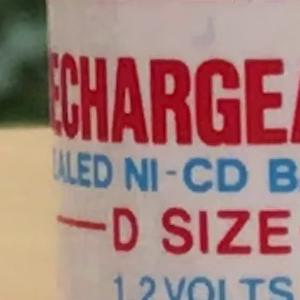NI-CD: (109, 148, 258, 201)
